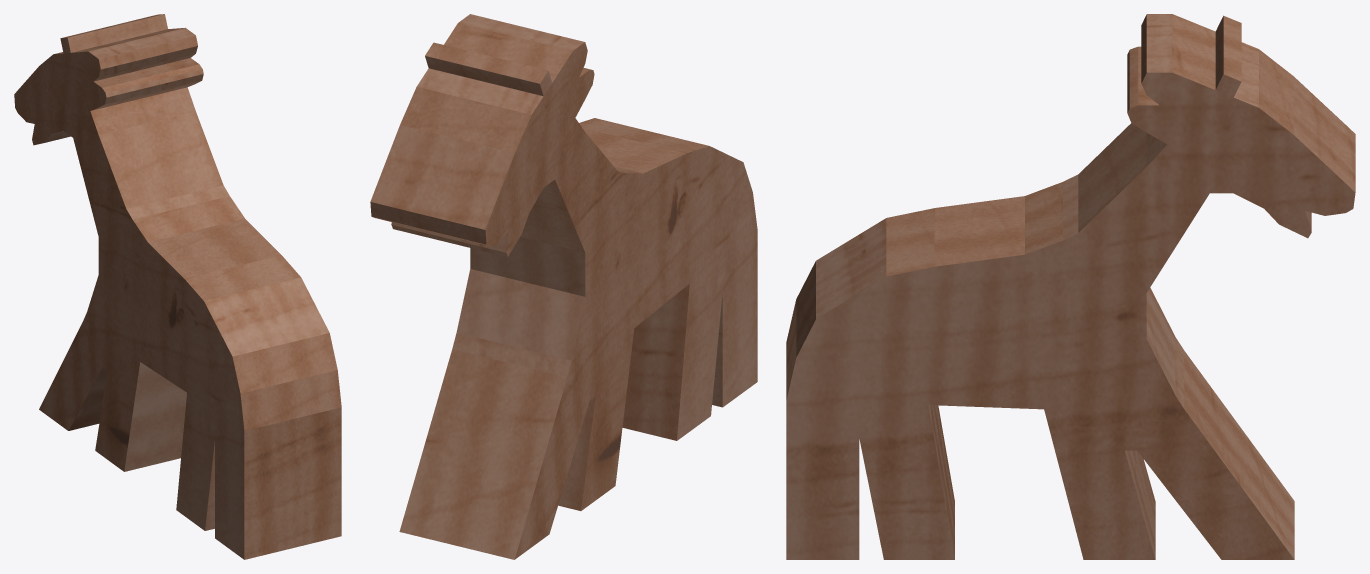
The model's file is giraffe.FBX.
3 views of the same model, side by side, from view 1: azimuth 30°, elevation 25°; view 2: azimuth 150°, elevation 25°; view 3: azimuth 270°, elevation 25° (orthographic). The views are drawn at different scales.
Visible parts, largest first — view 1: Obj_000001; view 2: Obj_000001; view 3: Obj_000001.
Boxes of the visible parts, x1,y1,x2,y2 form: Obj_000001: (14, 14, 341, 559); Obj_000001: (370, 14, 757, 559); Obj_000001: (786, 14, 1355, 559).
Size of the model in its own units: 0.394 by 1.53 by 1.61.
